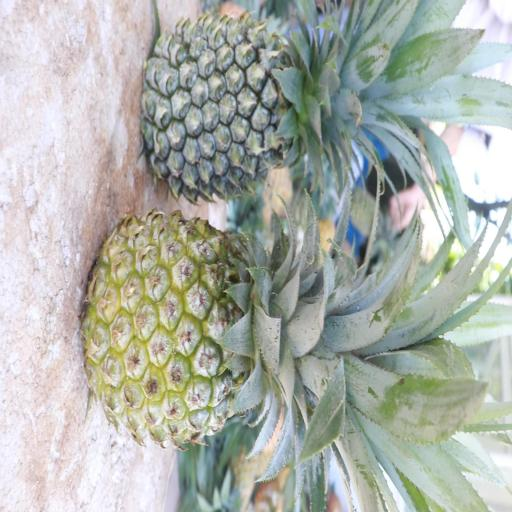------------------------------: (77, 210, 369, 456)
